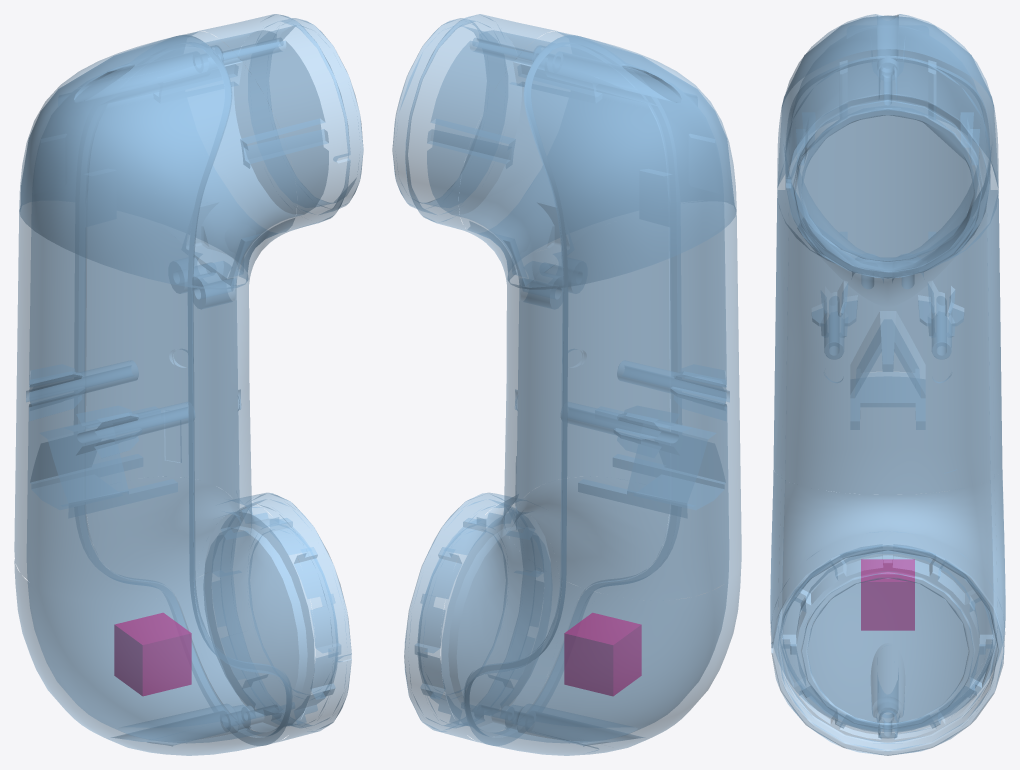
File: MyCobotPi_J3.gltf
3 renders of one model, left to right at view 1: azimuth 30°, elevation 25°; view 2: azimuth 150°, elevation 25°; view 3: azimuth 270°, elevation 25°, orthographic. The views are drawn at different scales.
Parts seen in each view (by area): view 1: polySurface173, polySurface145, J3_Cube; view 2: polySurface173, polySurface145, J3_Cube; view 3: polySurface173, polySurface145, J3_Cube.
Boxes of the visible parts, x1,y1,x2,y2 form: polySurface173: [19, 14, 363, 745]; polySurface145: [14, 35, 290, 755]; J3_Cube: [114, 613, 191, 695]; polySurface173: [392, 14, 736, 745]; polySurface145: [465, 35, 741, 755]; J3_Cube: [564, 613, 641, 695]; polySurface173: [770, 15, 1005, 755]; polySurface145: [770, 14, 1005, 731]; J3_Cube: [861, 559, 914, 630].
Size of the model in its own units: 0.0581 by 0.1371 by 0.0438.
